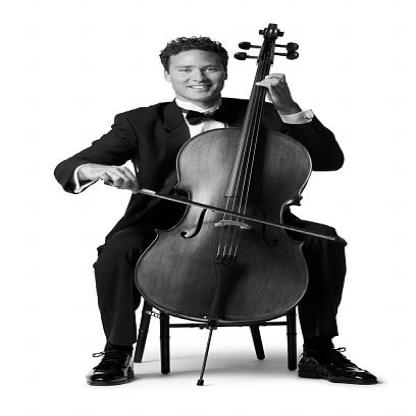bad: (83, 161, 154, 200)
